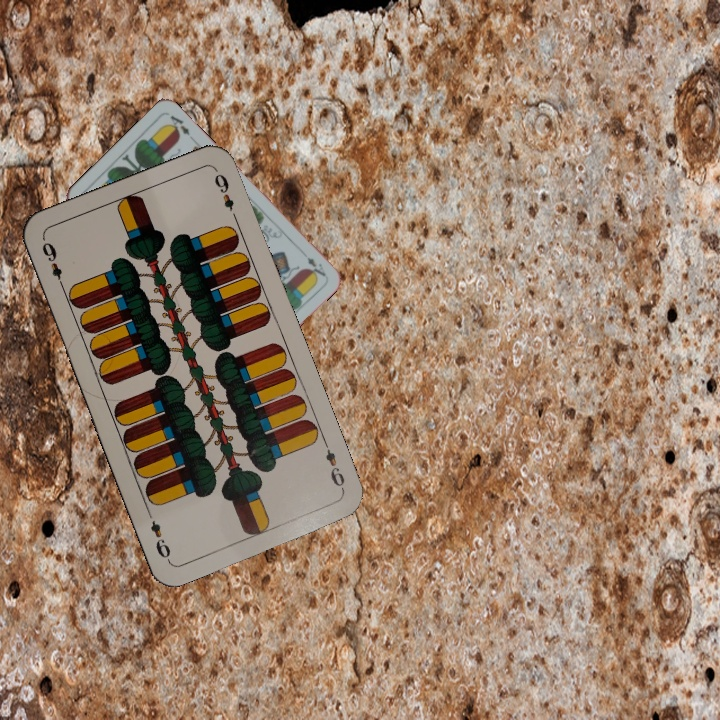E9: (319, 437, 348, 494), (37, 237, 67, 292)
EA: (303, 253, 328, 279)
